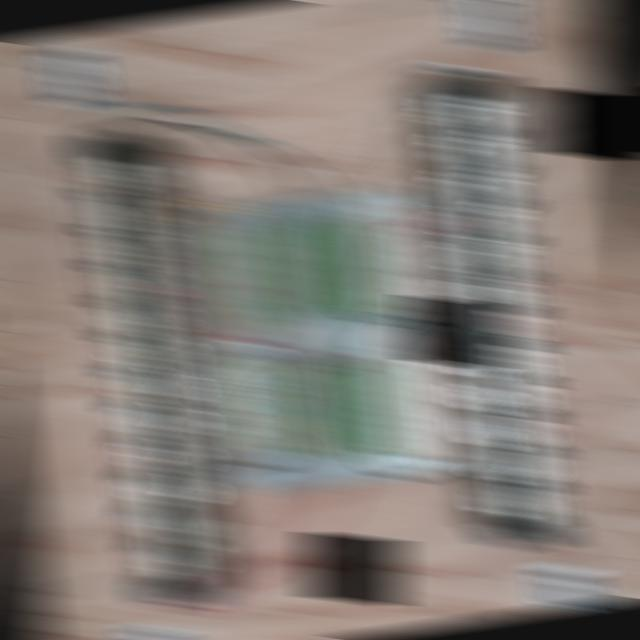Flathead_Block: (73, 129, 222, 611)
Phillips_Block: (427, 69, 573, 552)
Terminal_1: (233, 352, 288, 457), (217, 226, 271, 331)
Terminal_2: (335, 216, 387, 316), (297, 364, 349, 463), (325, 362, 376, 462), (277, 222, 328, 322), (306, 218, 357, 318)
